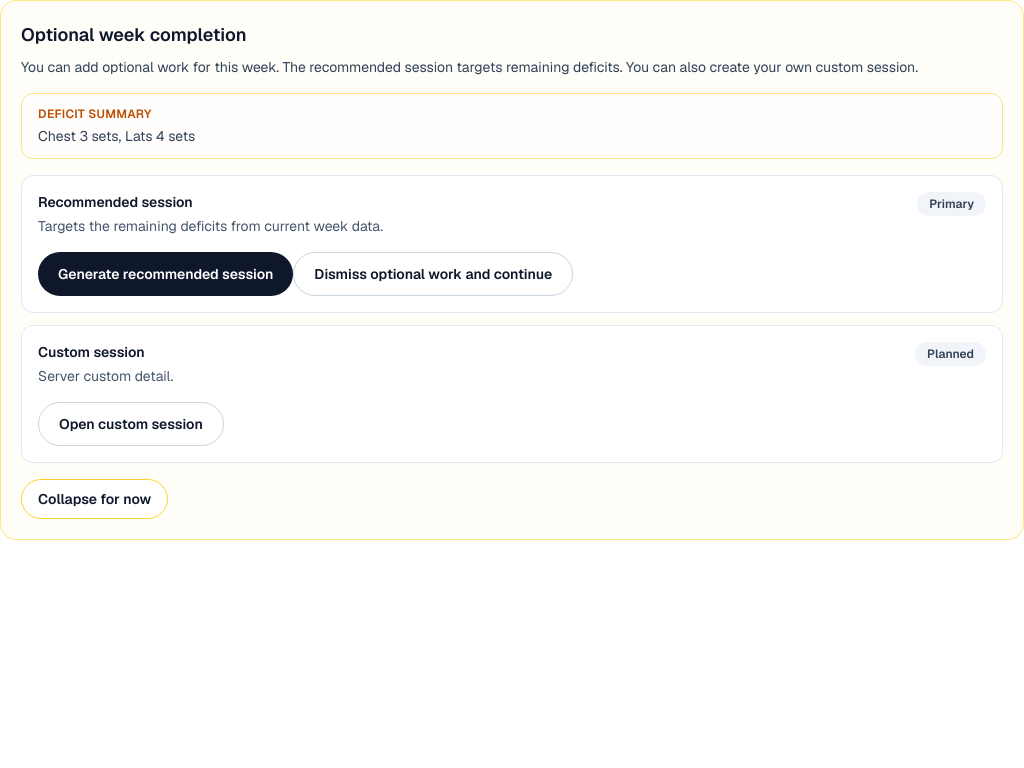
it: OptionalWeekCompletion › renders recommended work before custom work and hides with UI-only dismissal
This screenshot has width=1024, height=768.
Expected: the heading "Optional week completion" is shown, [21,23,246,46]
Expected: the text "You can add optional work for this week. The recommended session targets remaining deficits. You can also create your ow" is shown, [21,58,918,76]
Click the button "Collapse for now": point(95, 499) [21,479,168,519]
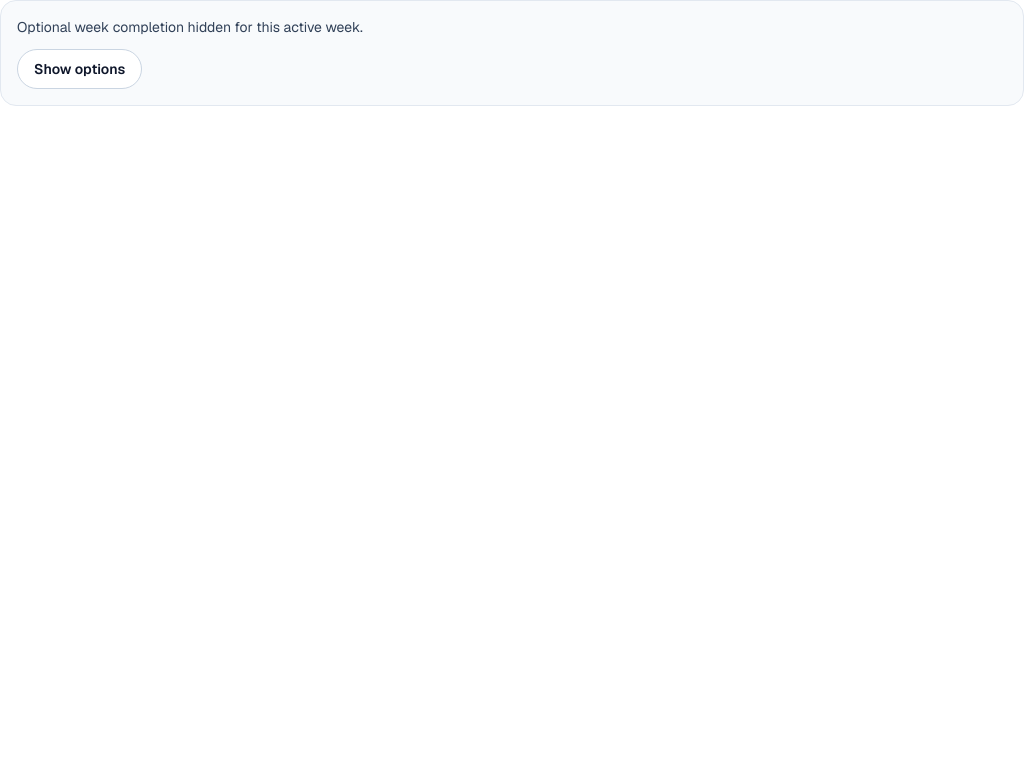
Now the text "Optional week completion hidden for this active week." is shown, box [17,18,363,36]
Now the button "Show options" is shown, box [17,49,142,89]
